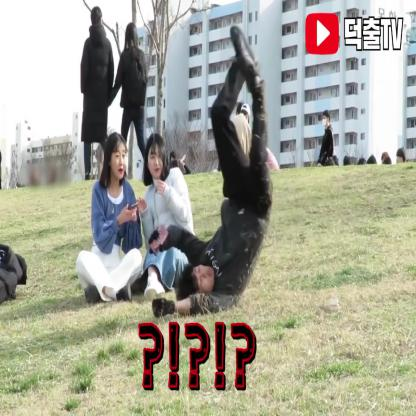Fall_Down: (145, 24, 276, 320)
